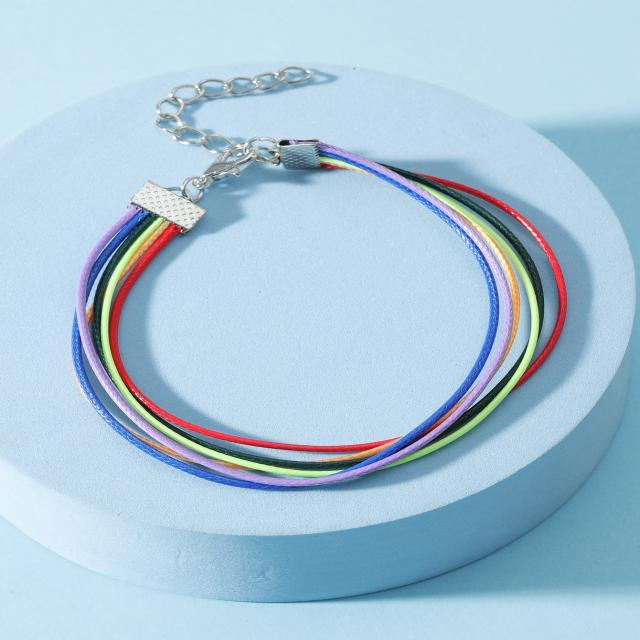bracelet: (56, 38, 640, 509)
